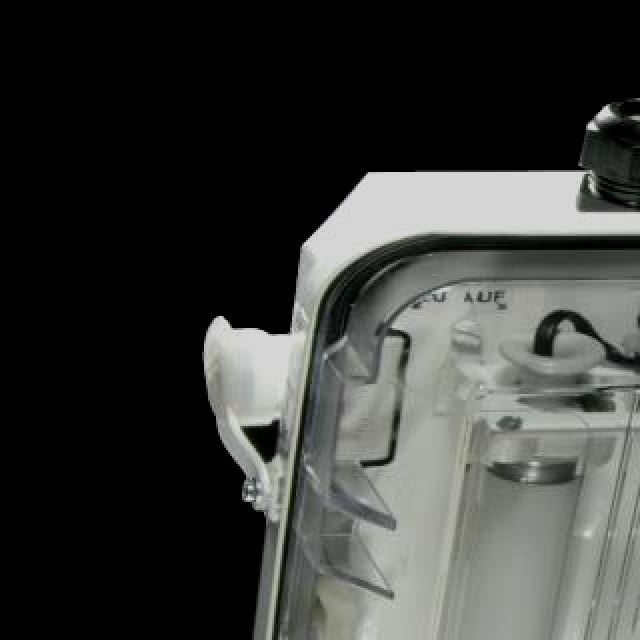fluorescent tube: (194, 324, 628, 640), (556, 384, 640, 640)
